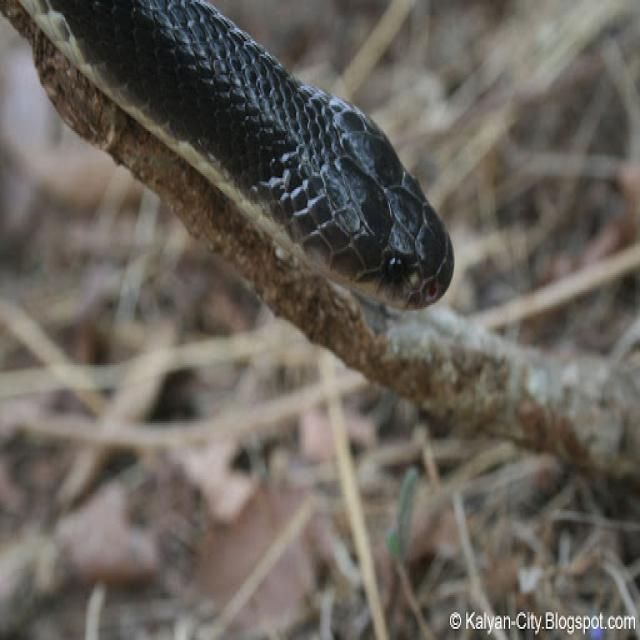Snake: (4, 0, 458, 315)
